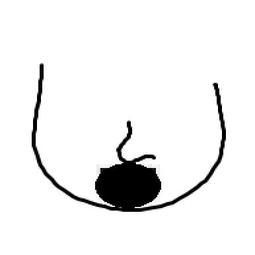nose: (107, 112, 161, 164)
open_mouth: (94, 163, 168, 215)
